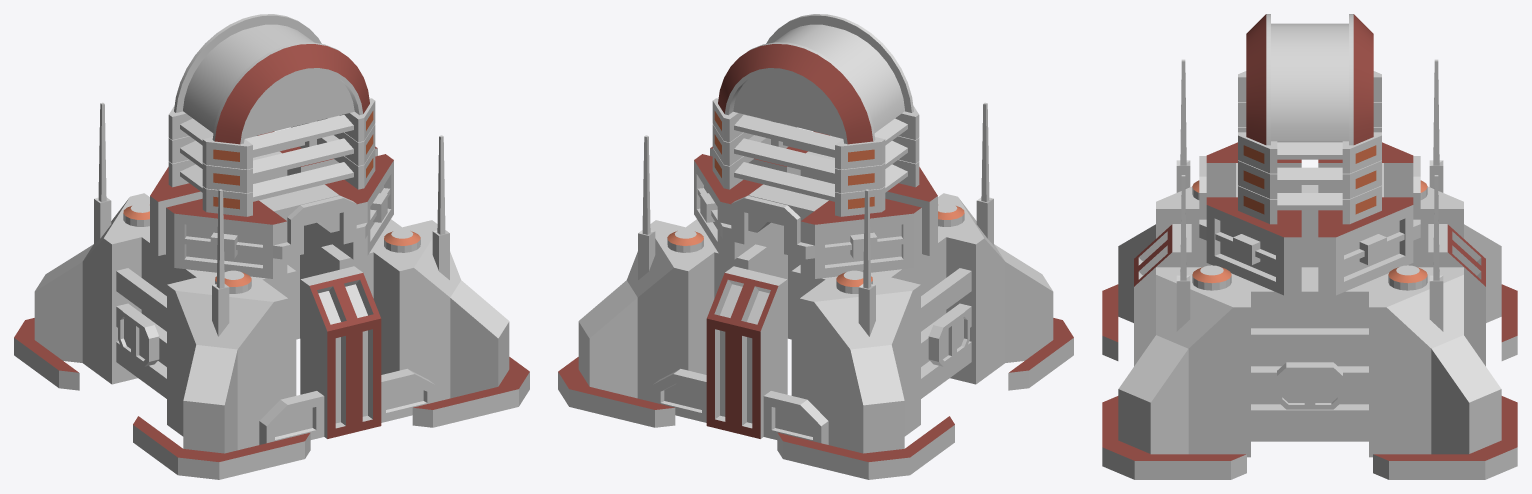
The model's file is Generator.fbx.
3 renders of one model, left to right at view 1: azimuth 30°, elevation 25°; view 2: azimuth 150°, elevation 25°; view 3: azimuth 270°, elevation 25°, orthographic. The views are drawn at different scales.
Parts seen in each view (by area): view 1: Generator; view 2: Generator; view 3: Generator.
Part boxes in pixels (x1=…): Generator: x1=14, y1=14, x2=529, y2=479; Generator: x1=558, y1=14, x2=1073, y2=479; Generator: x1=1102, y1=14, x2=1517, y2=479.
Bounding box in the file's own units: 4.23 × 3.91 × 4.04.
